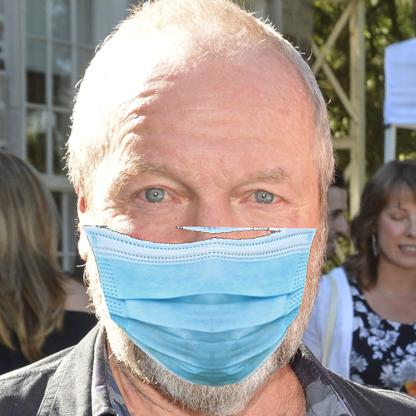mask: (80, 219, 318, 385)
